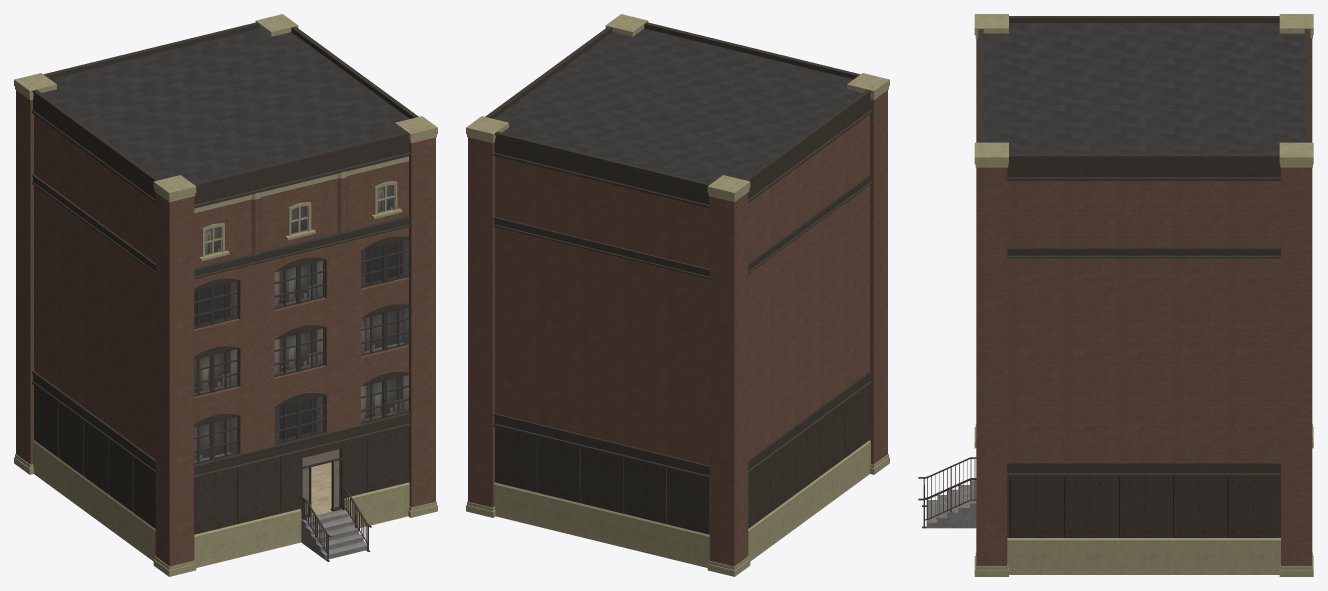
The model's file is building-small.glb.
3 views of the same model, side by side, from view 1: azimuth 30°, elevation 25°; view 2: azimuth 150°, elevation 25°; view 3: azimuth 270°, elevation 25° (orthographic). The views are drawn at different scales.
Parts seen in each view (by area): view 1: Building_Small_1; view 2: Building_Small_1; view 3: Building_Small_1.
Part boxes in pixels (left/top/right/bottom): Building_Small_1: left=14, top=14, right=437, bottom=576; Building_Small_1: left=466, top=14, right=889, bottom=576; Building_Small_1: left=918, top=14, right=1313, bottom=576.
Bounding box in the file's own units: 12.46 × 17.03 × 14.54.
Materials: 13 (12 with a texture image).
